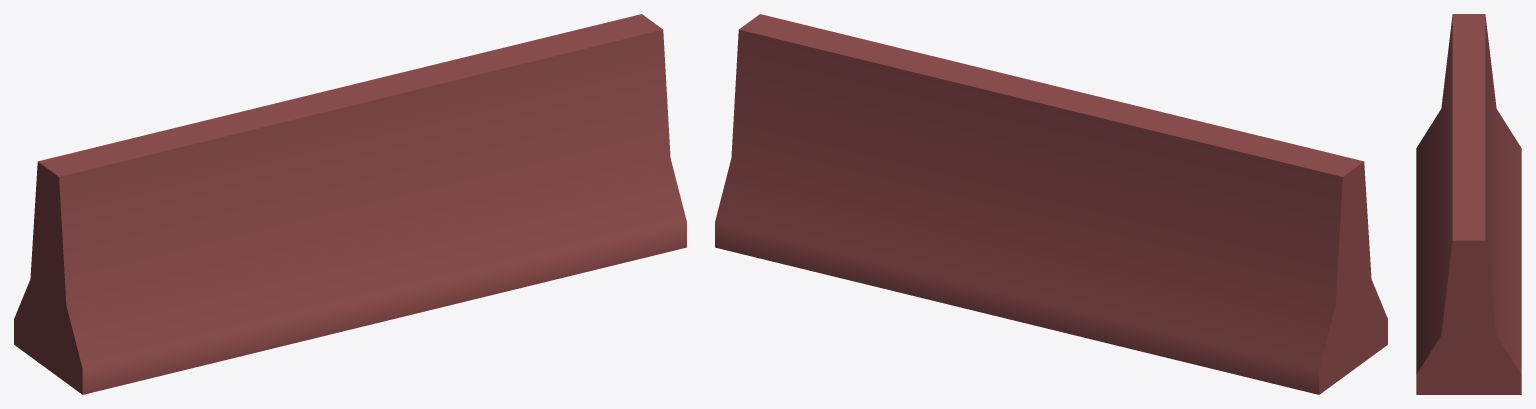
File: Blockade.fbx
3 renders of one model, left to right at view 1: azimuth 30°, elevation 25°; view 2: azimuth 150°, elevation 25°; view 3: azimuth 270°, elevation 25°, orthographic. The views are drawn at different scales.
Parts seen in each view (by area): view 1: Blockade; view 2: Blockade; view 3: Blockade.
Boxes of the visible parts, x1,y1,x2,y2 form: Blockade: (14, 14, 686, 394); Blockade: (715, 14, 1387, 394); Blockade: (1416, 14, 1521, 394).
Bounding box in the file's own units: 3.47 × 1.1 × 0.6834.
